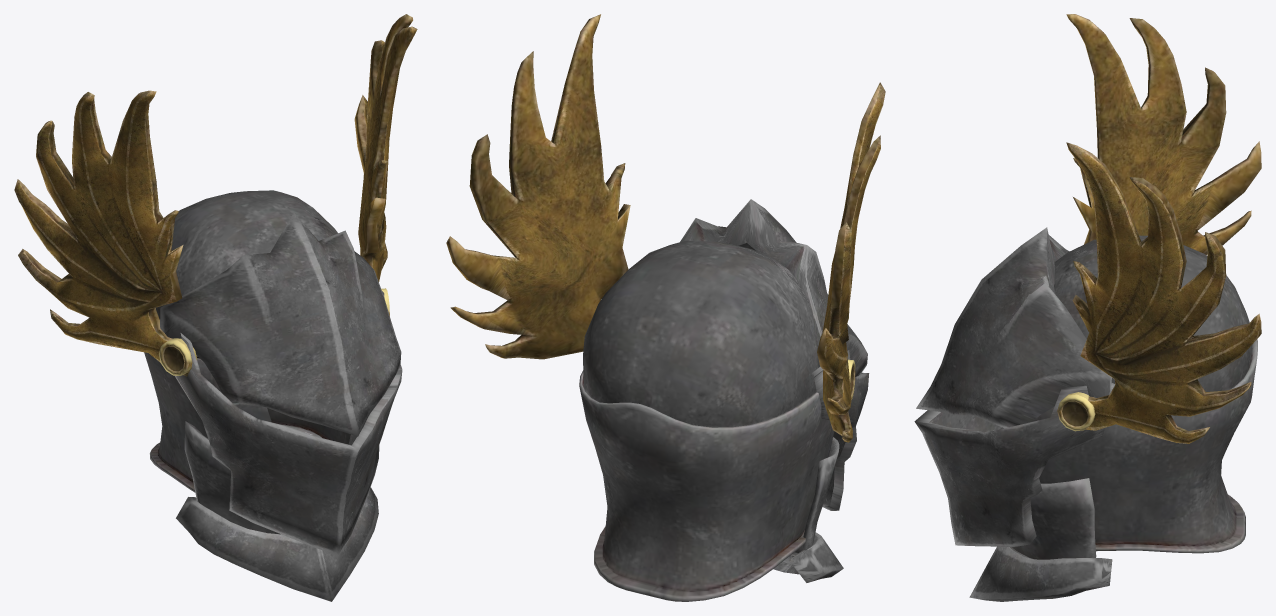
Rendered from knights.glb.
3 renders of one model, left to right at view 1: azimuth 30°, elevation 25°; view 2: azimuth 150°, elevation 25°; view 3: azimuth 270°, elevation 25°, orthographic. The views are drawn at different scales.
Parts seen in each view (by area): view 1: Wings, Helm; view 2: Wings, Helm; view 3: Wings, Helm.
Part boxes in pixels (x1,y1,x2,y2): Wings: (144, 190, 402, 601); Helm: (14, 14, 417, 376); Wings: (579, 199, 869, 601); Helm: (446, 14, 885, 442); Wings: (914, 227, 1257, 601); Helm: (1057, 14, 1261, 443).
Size of the model in its own units: 14.46 by 19.81 by 11.94.
2 materials, 2 textured.
